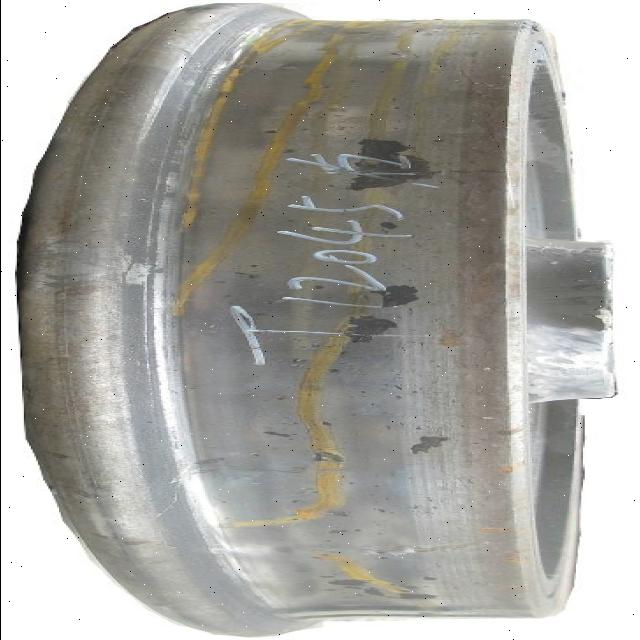geshang: (347, 138, 439, 193), (332, 314, 404, 344), (365, 282, 427, 310), (398, 435, 454, 456)
